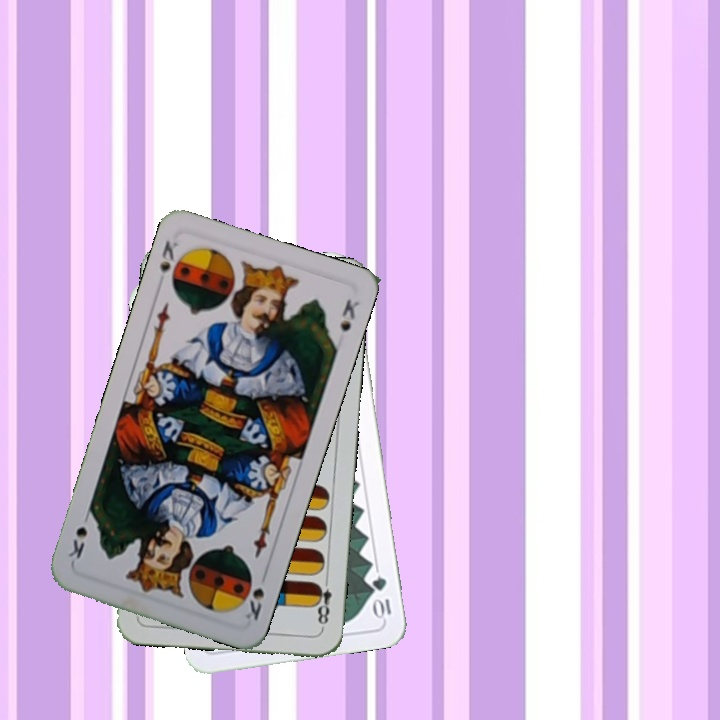E8: (310, 572, 334, 631)
G10: (368, 572, 394, 621)
SK: (241, 567, 270, 625), (155, 236, 181, 290)
